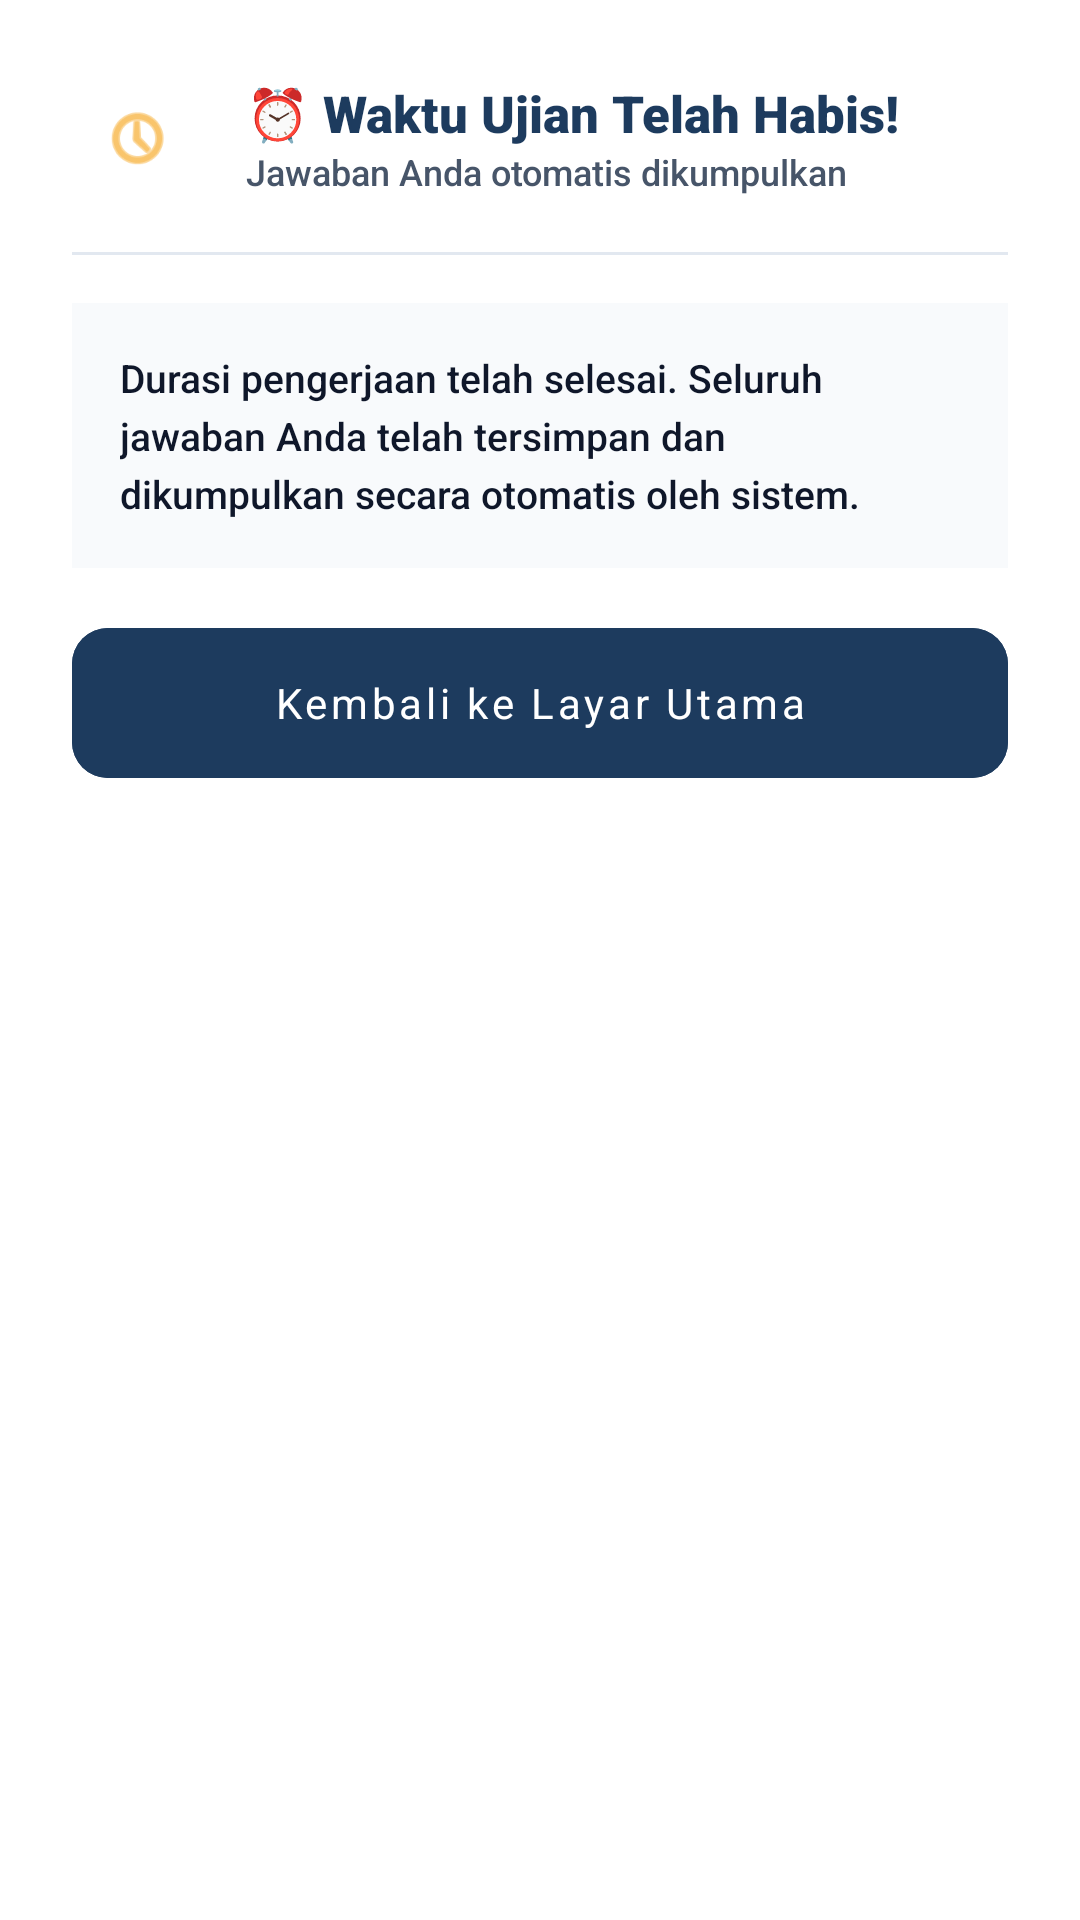

Icon bounding boxes for this 1080w x 1920h phone screenshot, format {"left": x1, "top": y1, "right": x2, "bottom": y2}:
Time Up: {"left": 111, "top": 112, "right": 164, "bottom": 164}
